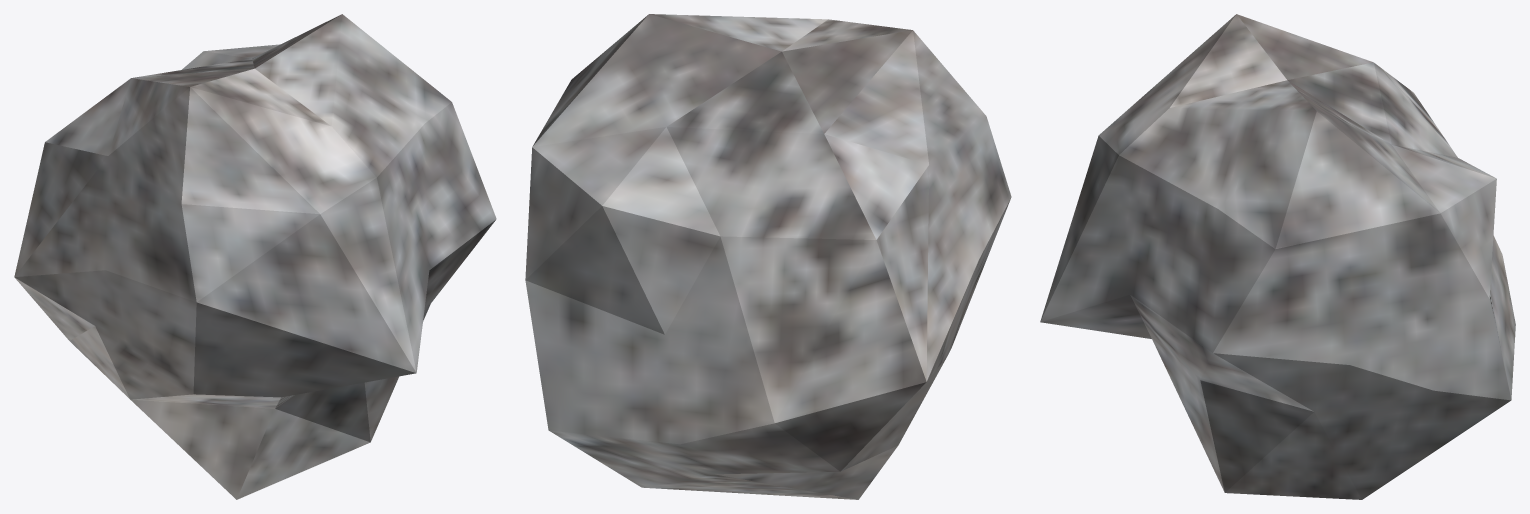
File: Asteroid_Small_002.fbx
3 views of the same model, side by side, from view 1: azimuth 30°, elevation 25°; view 2: azimuth 150°, elevation 25°; view 3: azimuth 270°, elevation 25° (orthographic). The views are drawn at different scales.
Visible parts, largest first — view 1: Asteroid_Small_002; view 2: Asteroid_Small_002; view 3: Asteroid_Small_002.
Boxes of the visible parts, x1,y1,x2,y2 form: Asteroid_Small_002: (14, 14, 496, 499); Asteroid_Small_002: (525, 14, 1011, 499); Asteroid_Small_002: (1040, 14, 1515, 499).
Size of the model in its own units: 5.9 by 6.26 by 6.17.
Materials: 1 (1 with a texture image).
